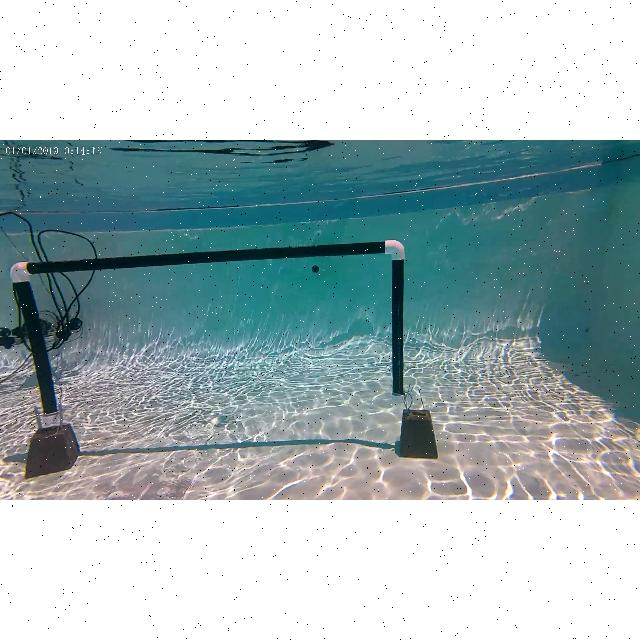prequal gate: (9, 240, 404, 420)
prequal gate leg l: (8, 256, 76, 427)
prequal gate leg r: (368, 236, 418, 412)
